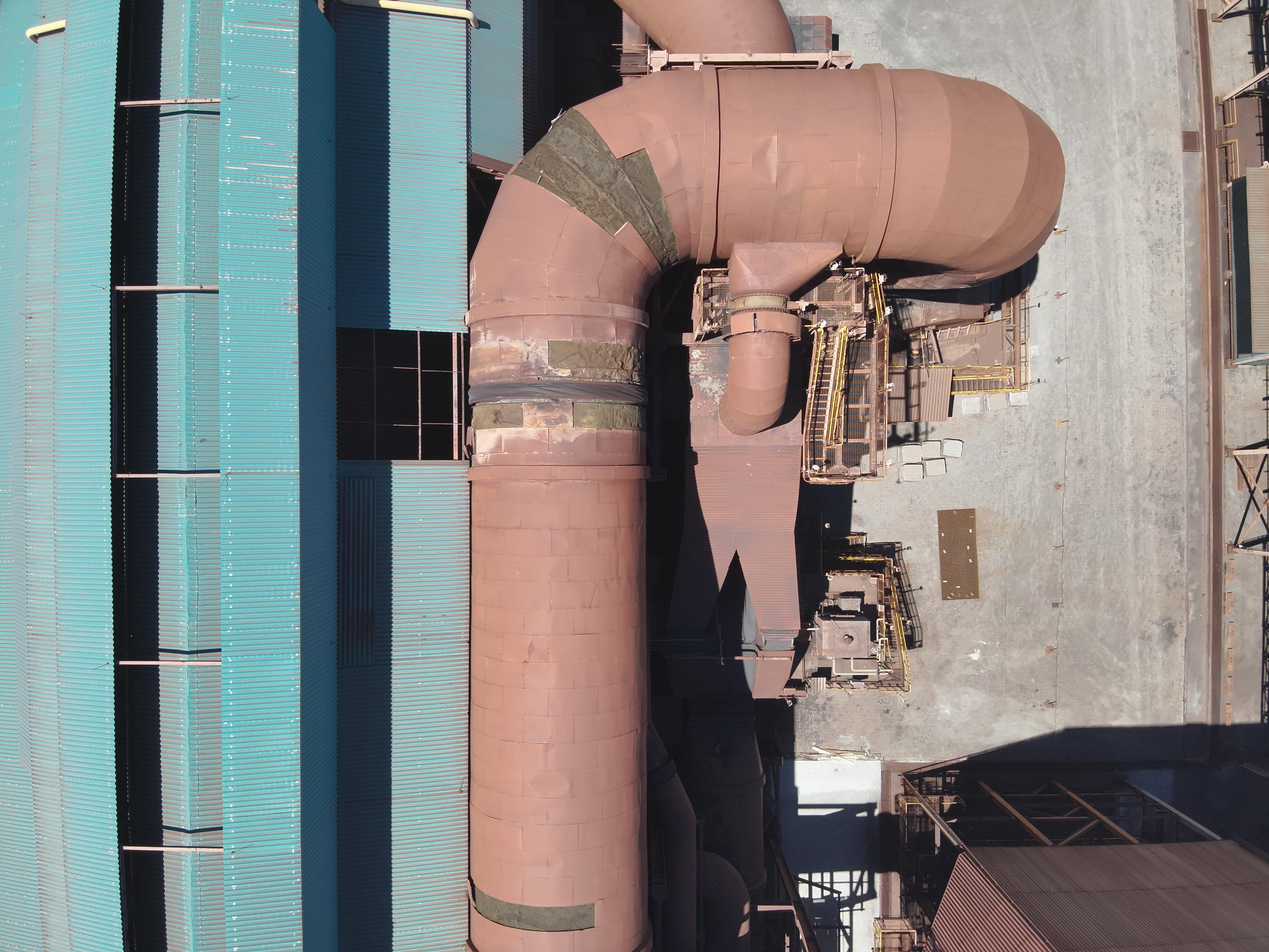Failures: (503, 94, 676, 265), (457, 324, 644, 457), (461, 869, 602, 936), (712, 302, 810, 350)
